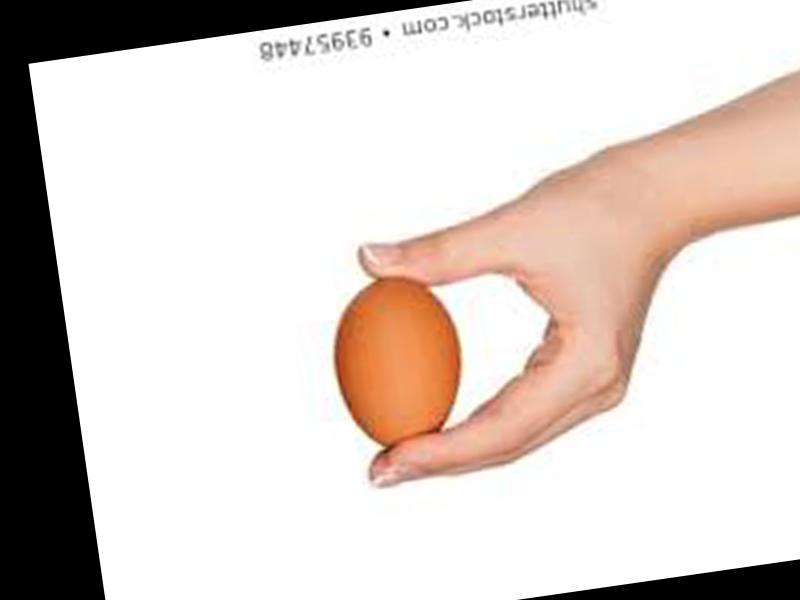Eggs: (324, 268, 471, 463)
